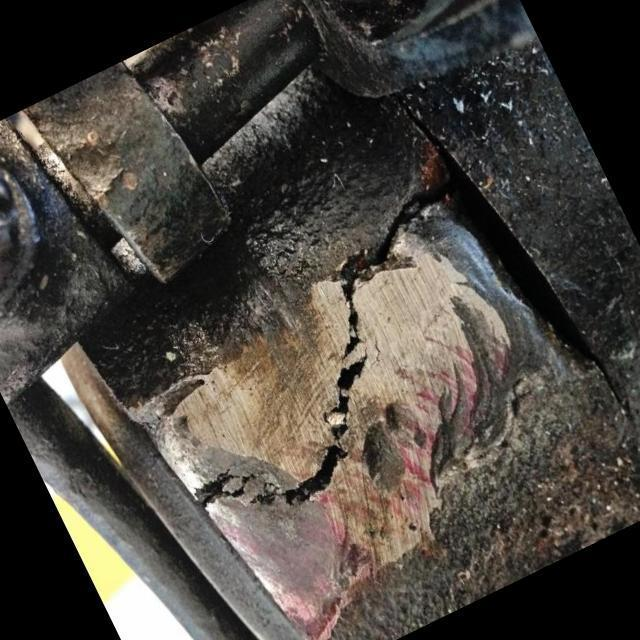defect: (187, 171, 464, 529)
